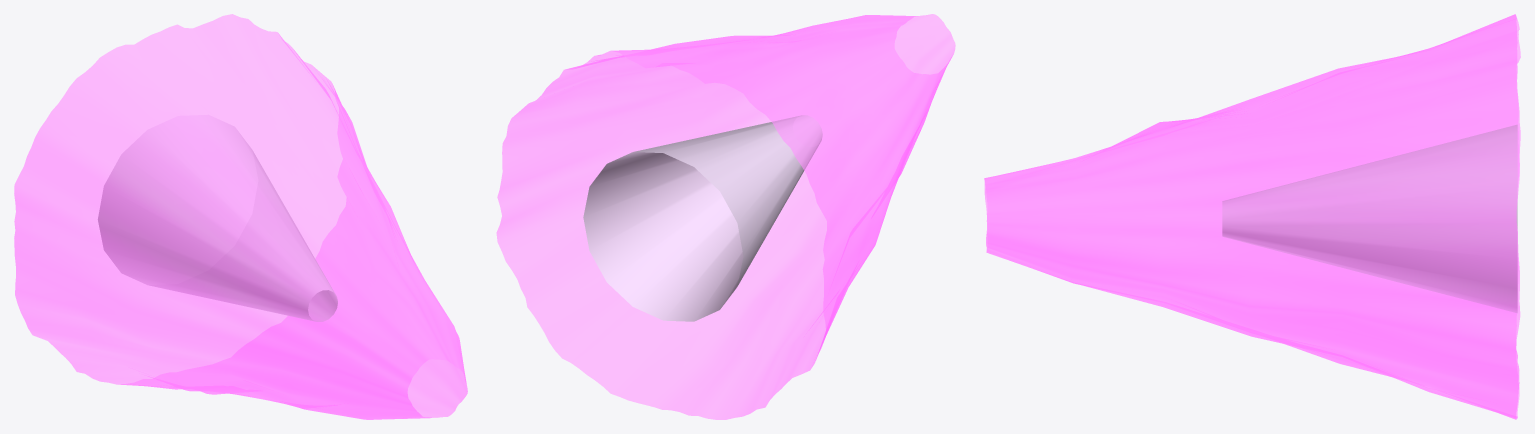
File: ASHWYRM_breathflare_vfx.fbx
The picture shows the model from 3 angles, left to right: view 1: azimuth 30°, elevation 25°; view 2: azimuth 150°, elevation 25°; view 3: azimuth 270°, elevation 25°; orthographic projection. The views are drawn at different scales.
Parts seen in each view (by area): view 1: ASHWYRM_breathflare_vfx; view 2: ASHWYRM_breathflare_vfx; view 3: ASHWYRM_breathflare_vfx.
Boxes of the visible parts, left/top/right/bottom form: ASHWYRM_breathflare_vfx: left=14, top=14, right=467, bottom=419; ASHWYRM_breathflare_vfx: left=496, top=14, right=955, bottom=419; ASHWYRM_breathflare_vfx: left=984, top=14, right=1520, bottom=419.
Size of the model in its own units: 0.3306 by 0.3311 by 0.4542.
